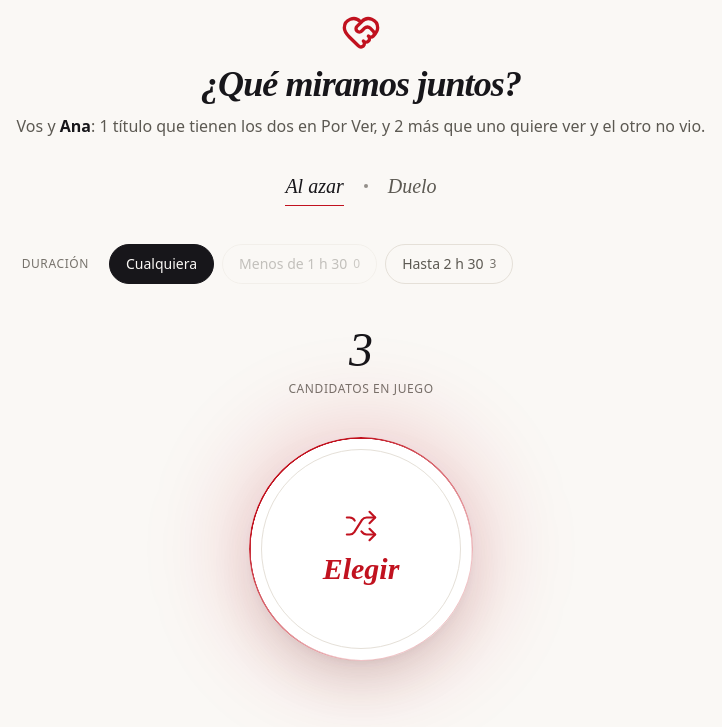
Test case: TogetherView › sortea sobre la lista cruzada y dice de quién era
Click the button "Elegir".
click(361, 549)  # box 249,437 -> 473,661
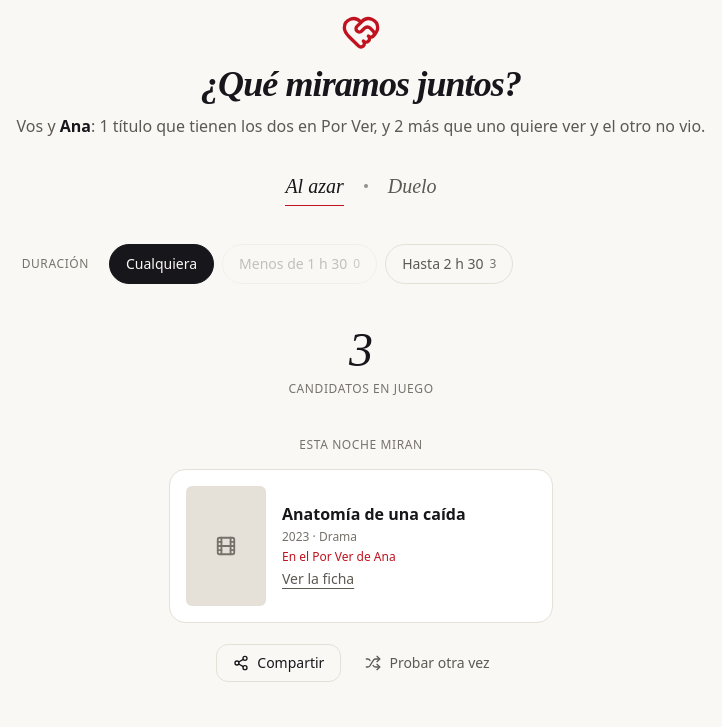
Expected: the text "En el Por Ver de Ana" is shown, 282,548 -> 396,565
